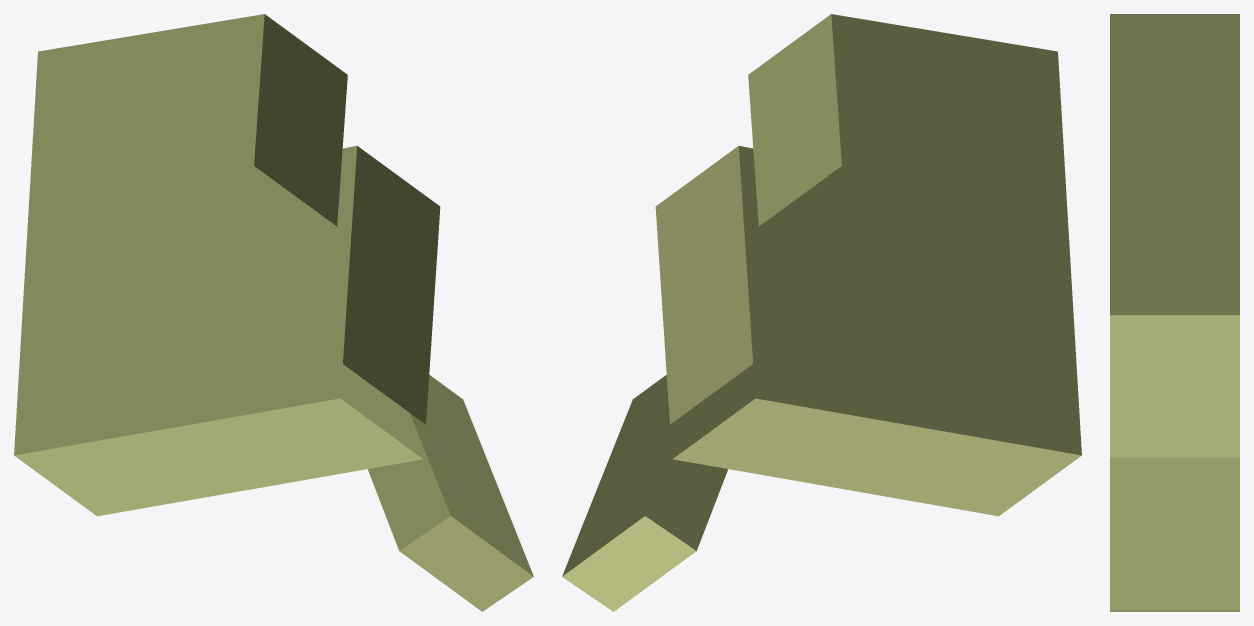
The picture shows the model from 3 angles, left to right: view 1: azimuth 30°, elevation 25°; view 2: azimuth 150°, elevation 25°; view 3: azimuth 270°, elevation 25°; orthographic projection. The views are drawn at different scales.
Visible parts, largest first — view 1: 0_3_0_1_1_1_0_1_2_2; view 2: 0_3_0_1_1_1_0_1_2_2; view 3: 0_3_0_1_1_1_0_1_2_2.
Part boxes in pixels (x1,y1,x2,y2): 0_3_0_1_1_1_0_1_2_2: (14,14,533,611); 0_3_0_1_1_1_0_1_2_2: (562,14,1081,611); 0_3_0_1_1_1_0_1_2_2: (1110,14,1239,611).
Bounding box in the file's own units: 18.2 × 23.4 × 6.
